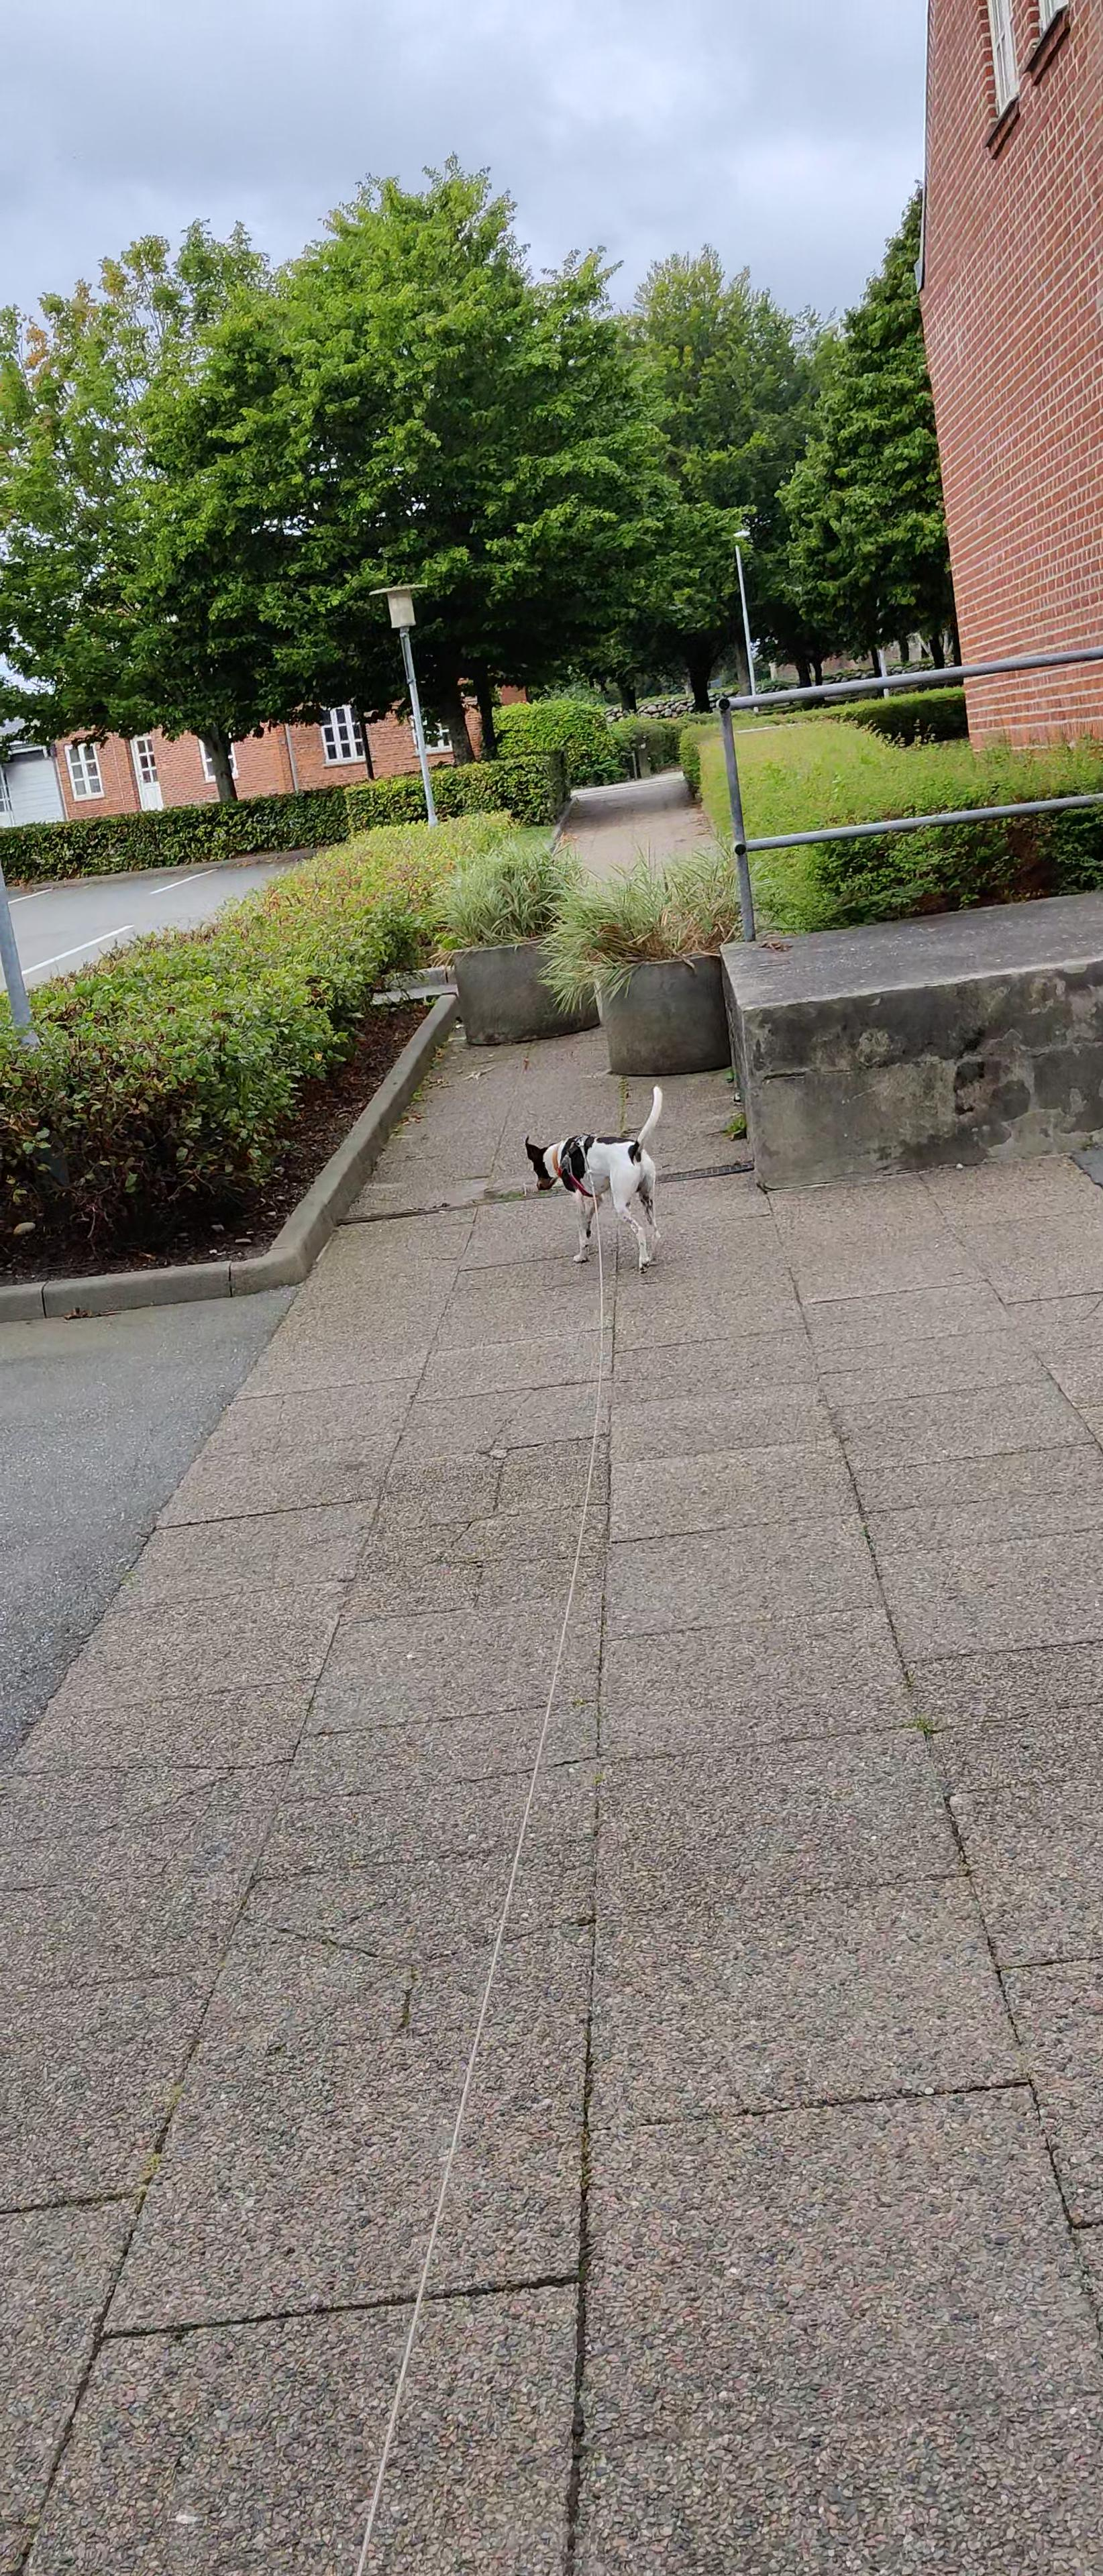Dog: (508, 1083, 676, 1276)
